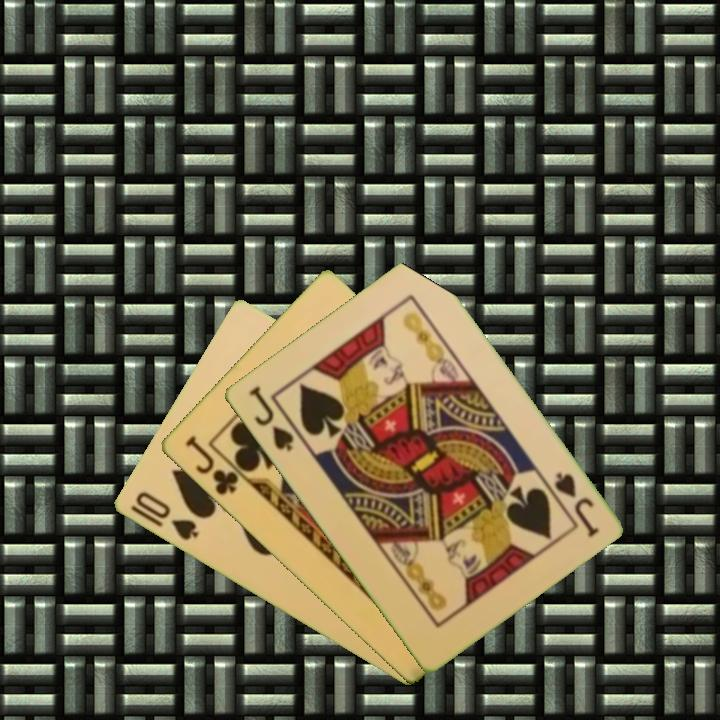10s: (131, 488, 202, 544)
Jc: (180, 431, 241, 499)
Js: (244, 382, 297, 455), (550, 468, 602, 541)
